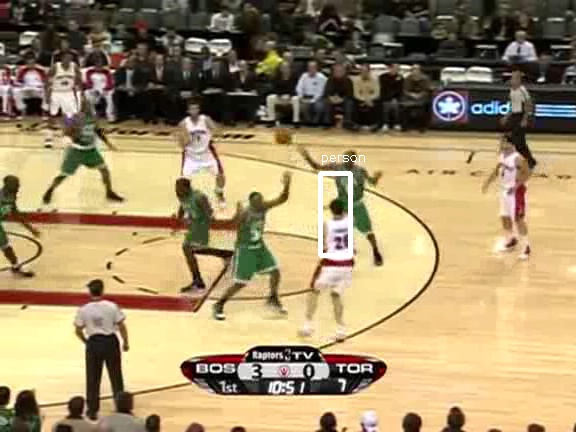person: (334, 155, 368, 236), (333, 155, 367, 236), (335, 155, 369, 236), (334, 154, 368, 235), (334, 156, 368, 237)
target_negative: (253, 126, 561, 403), (86, 114, 294, 363), (371, 209, 511, 352), (229, 273, 502, 339), (168, 239, 209, 359)
